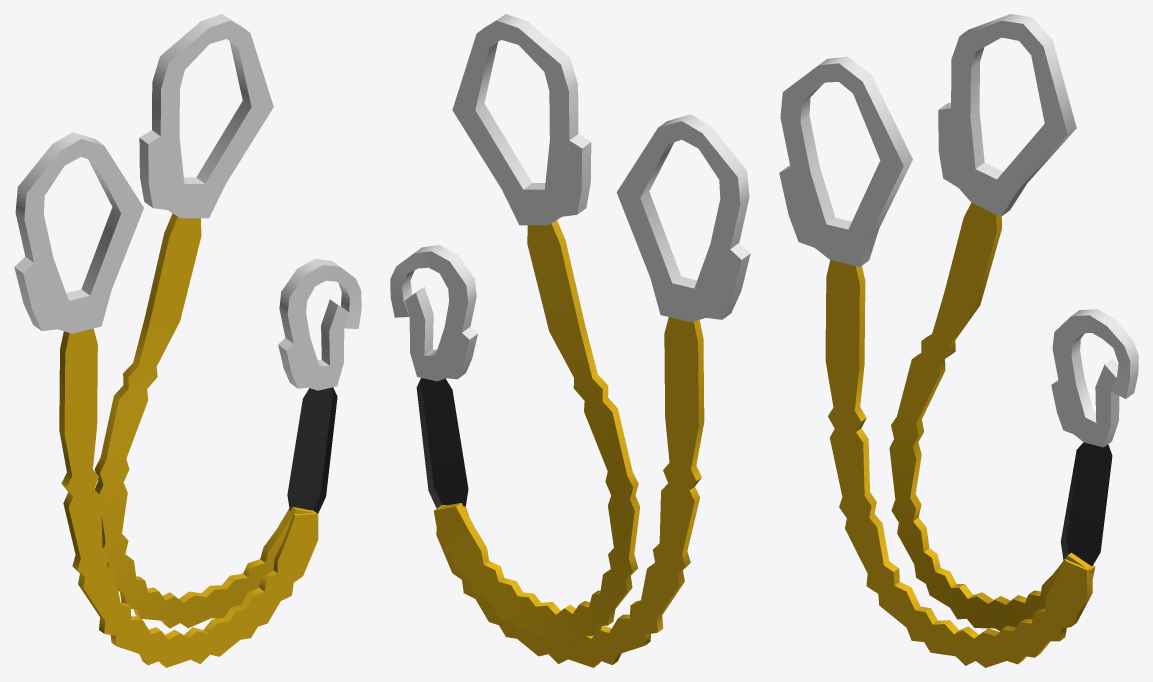
File: Talabarte Duplo.fbx
3 renders of one model, left to right at view 1: azimuth 30°, elevation 25°; view 2: azimuth 150°, elevation 25°; view 3: azimuth 330°, elevation 25°, orthographic. The views are drawn at different scales.
Visible parts, largest first — view 1: Talabarte Duplo; view 2: Talabarte Duplo; view 3: Talabarte Duplo.
Boxes of the visible parts, x1,y1,x2,y2 form: Talabarte Duplo: (14, 14, 361, 667); Talabarte Duplo: (390, 14, 750, 667); Talabarte Duplo: (779, 14, 1138, 667).
Size of the model in its own units: 29.71 by 52.2 by 3.55.
